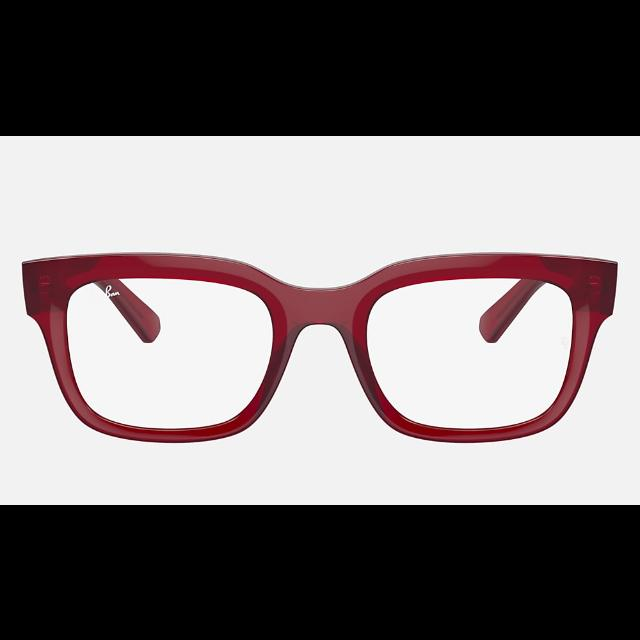glasses: (23, 252, 617, 444)
